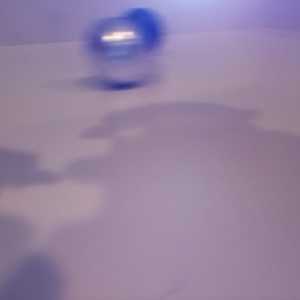alive_ball: (86, 18, 151, 85)
dead_ball: (116, 7, 162, 49)
